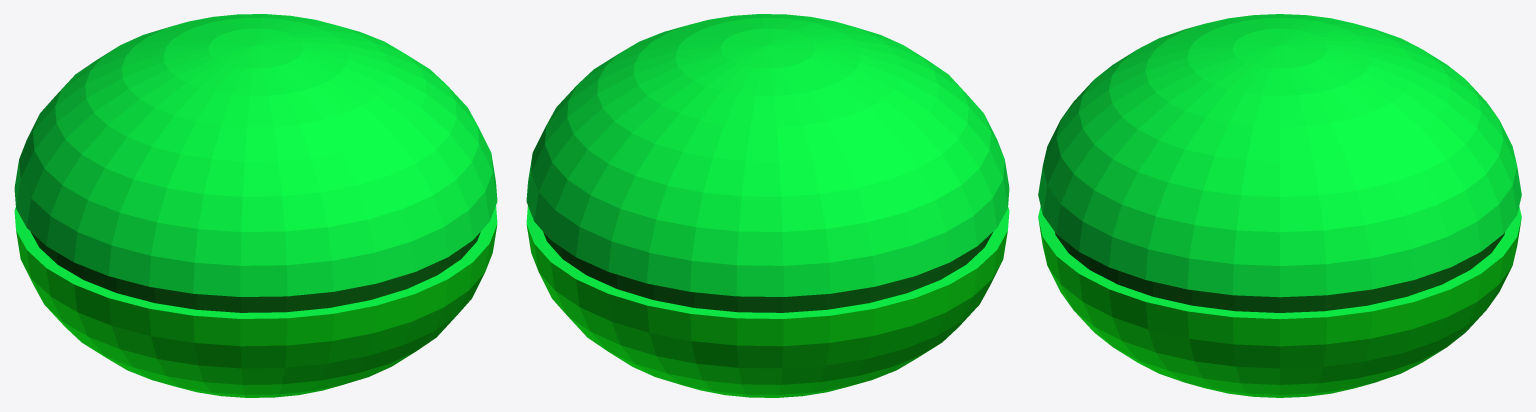
Rendered from Makaron3.fbx.
3 renders of one model, left to right at view 1: azimuth 30°, elevation 25°; view 2: azimuth 150°, elevation 25°; view 3: azimuth 270°, elevation 25°, orthographic.
Parts seen in each view (by area): view 1: Sphere, Sphere.001; view 2: Sphere, Sphere.001; view 3: Sphere, Sphere.001.
Boxes of the visible parts, box(x1,y1,x2,y2) form: Sphere: box(14, 14, 497, 318); Sphere.001: box(16, 225, 497, 397); Sphere: box(526, 14, 1009, 318); Sphere.001: box(526, 225, 1007, 397); Sphere: box(1038, 14, 1521, 318); Sphere.001: box(1038, 220, 1521, 397).
Bounding box in the file's own units: 200 × 146 × 200.
